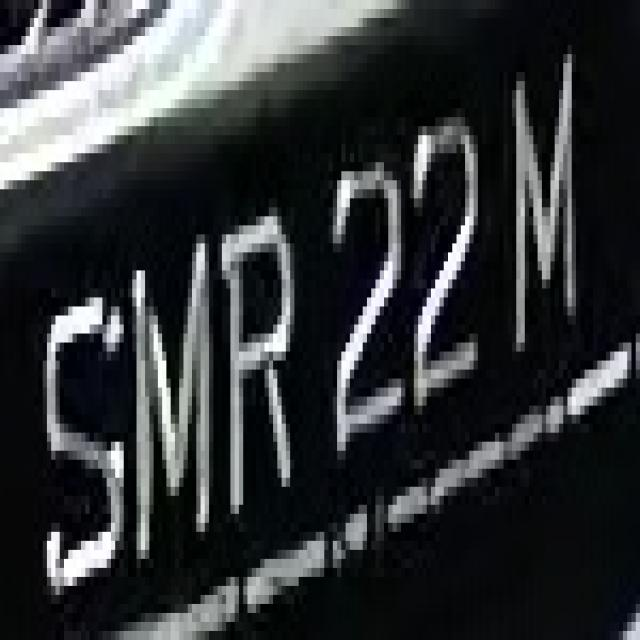2: (316, 117, 410, 451), (405, 81, 495, 397)
M: (132, 207, 230, 559), (495, 54, 589, 361)
R: (205, 198, 307, 532)
S: (26, 252, 128, 604)
